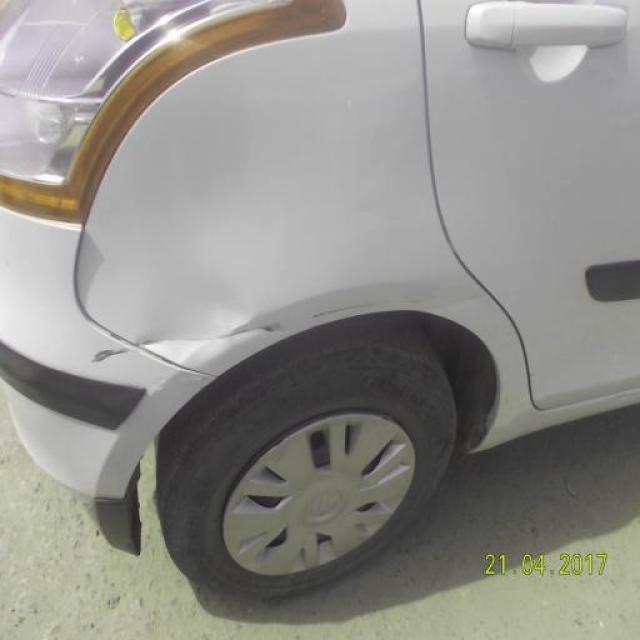car damage: (130, 275, 271, 396), (92, 321, 285, 368), (311, 292, 477, 320)
